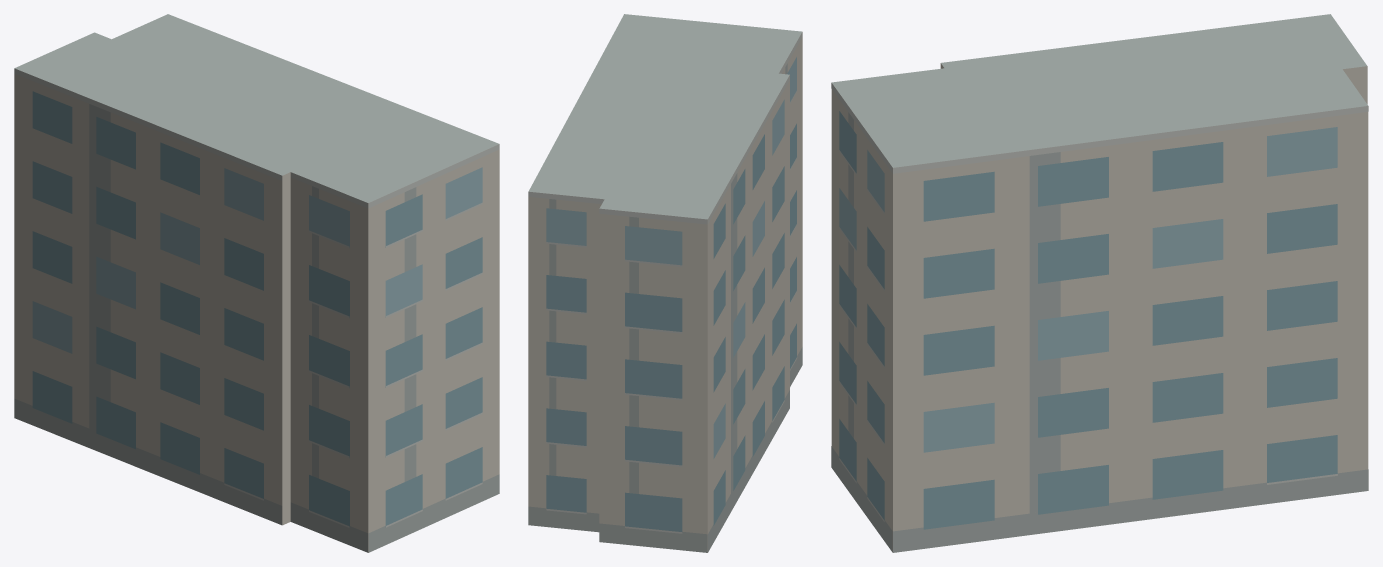
File: survey-upis-32767250.glb
3 renders of one model, left to right at view 1: azimuth 30°, elevation 25°; view 2: azimuth 150°, elevation 25°; view 3: azimuth 270°, elevation 25°, orthographic. The views are drawn at different scales.
Parts seen in each view (by area): view 1: survey-upis-32767250.tmp; view 2: survey-upis-32767250.tmp; view 3: survey-upis-32767250.tmp.
Boxes of the visible parts, x1,y1,x2,y2 form: survey-upis-32767250.tmp: (14,14,499,552); survey-upis-32767250.tmp: (528,14,802,552); survey-upis-32767250.tmp: (831,14,1368,552).
Bounding box in the file's own units: 13.56 × 15.8 × 19.99.
